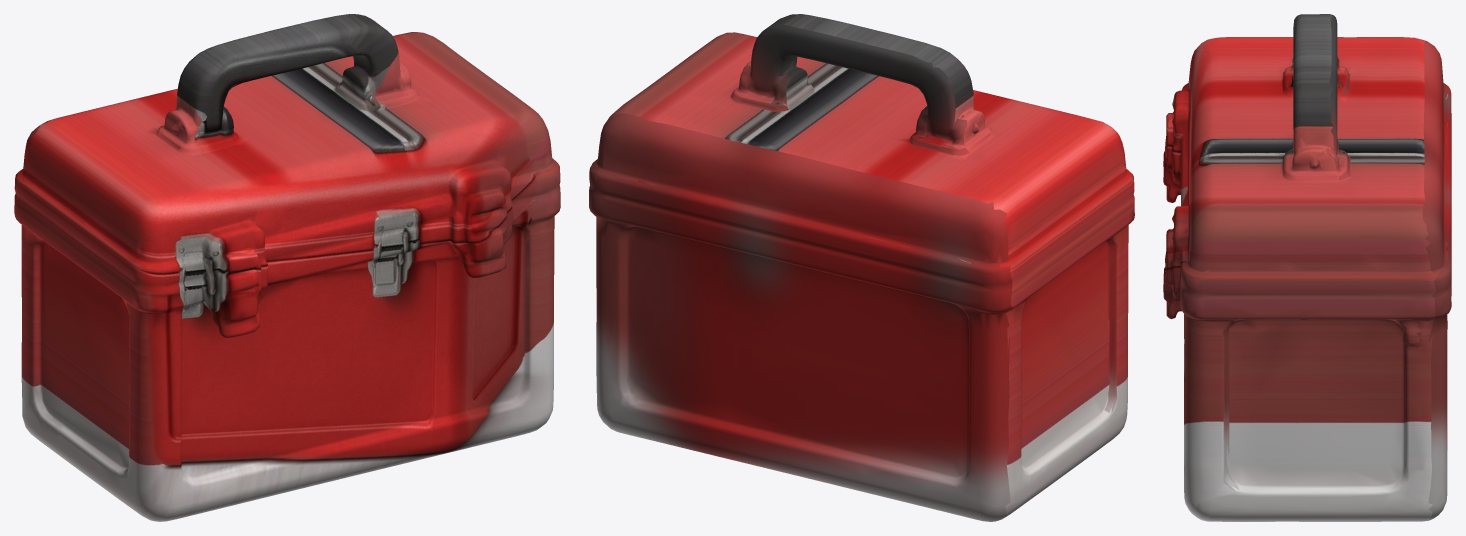
Rendered from toolbox.glb.
3 renders of one model, left to right at view 1: azimuth 30°, elevation 25°; view 2: azimuth 150°, elevation 25°; view 3: azimuth 270°, elevation 25°, orthographic. The views are drawn at different scales.
Parts seen in each view (by area): view 1: toolbox; view 2: toolbox; view 3: toolbox.
Boxes of the visible parts, left/top/right/bottom form: toolbox: left=14, top=14, right=560, bottom=521; toolbox: left=589, top=14, right=1134, bottom=521; toolbox: left=1163, top=14, right=1451, bottom=521.
Size of the model in its own units: 8.5 by 7.67 by 5.19.
1 material, 1 textured.
